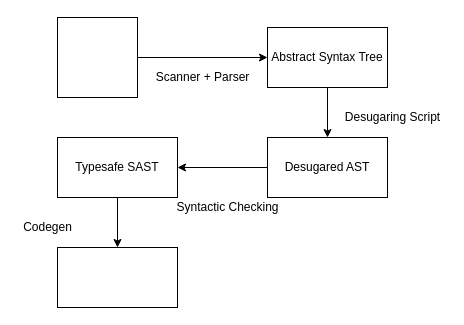
Image size: 464x325. Some labels were removed from this diagram. Each missing label, with the centre of its shape:
"LLVM" belongs at point 117,277.
"Viper Source Code" belongs at point 97,57.
